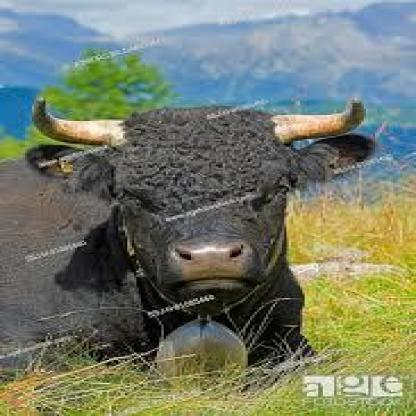cow: (0, 95, 382, 371)
